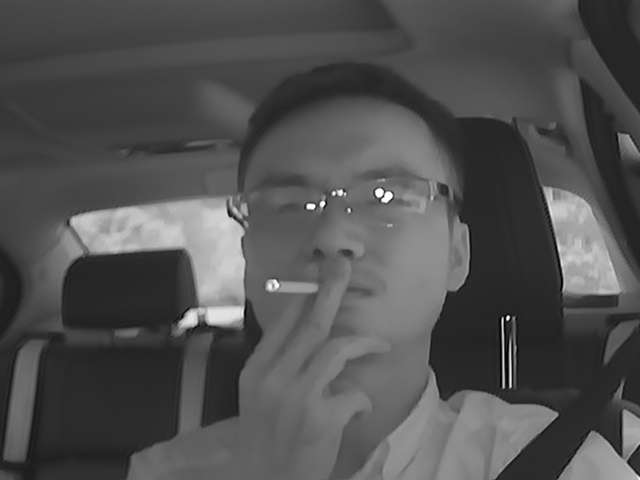hand: (249, 261, 386, 423)
